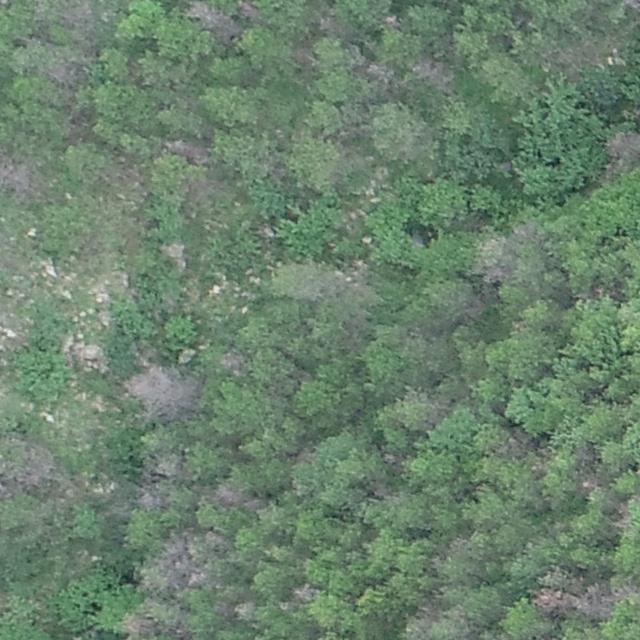unhealthy: (142, 531, 221, 593), (126, 359, 201, 420), (279, 262, 364, 306), (6, 443, 69, 493), (0, 149, 42, 203), (187, 0, 240, 39), (140, 450, 188, 489), (409, 57, 454, 90), (575, 580, 612, 620), (603, 128, 640, 164), (360, 57, 396, 91), (165, 136, 210, 163), (57, 0, 95, 29), (158, 238, 190, 272), (44, 60, 84, 87), (531, 588, 569, 616), (119, 610, 156, 638), (317, 13, 354, 39), (212, 482, 248, 506), (217, 349, 250, 375), (509, 219, 543, 243), (234, 0, 261, 22), (290, 581, 317, 602), (618, 0, 640, 12)
